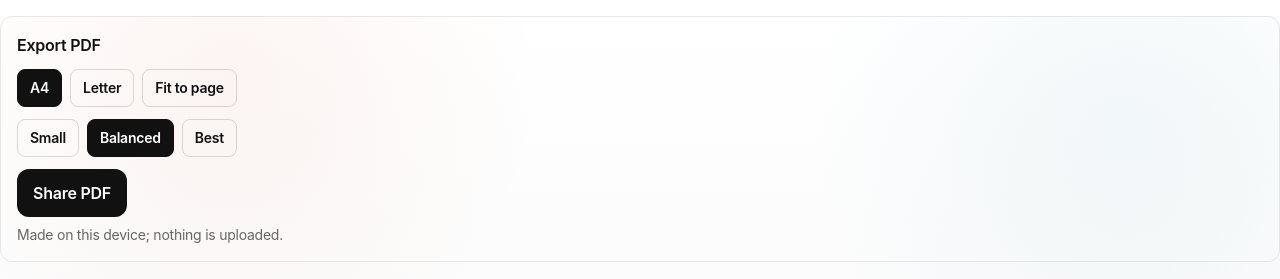
Test: ExportPanel › exports with the chosen paper and quality and shares the PDF
Click the button "Letter".
click(102, 88)  # box [70,69,134,107]
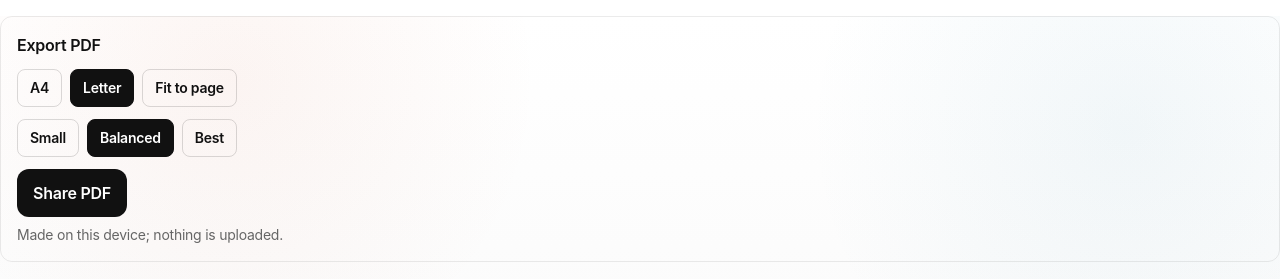
Click the button "Best".
click(209, 138)  # box [182,119,237,157]
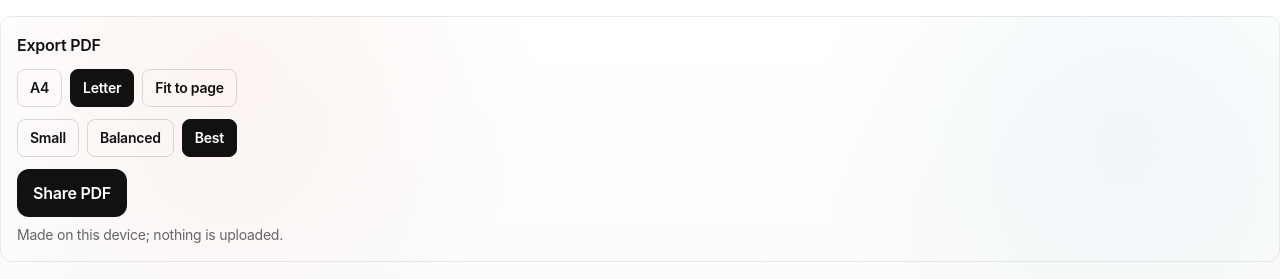
Click the button "Share PDF".
click(72, 193)  # box [17,169,127,217]
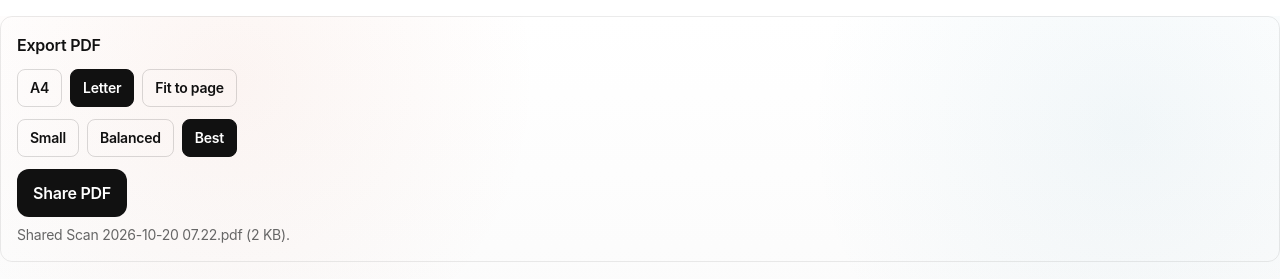
Expected: the text "Shared Scan 2026-10-20 07.22.pdf (2 KB)." is shown, [17,226,290,243]
